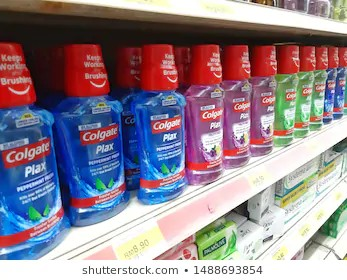colgate-Plax: (53, 41, 138, 229), (1, 35, 55, 235), (130, 41, 189, 210), (187, 39, 224, 191), (225, 41, 253, 171), (253, 41, 277, 165), (277, 46, 295, 152), (298, 41, 314, 143), (314, 46, 323, 135), (338, 47, 347, 133), (328, 47, 334, 129)
